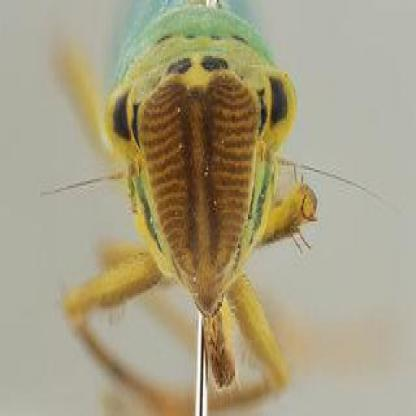Green-Leafhopper: (53, 0, 330, 416)
